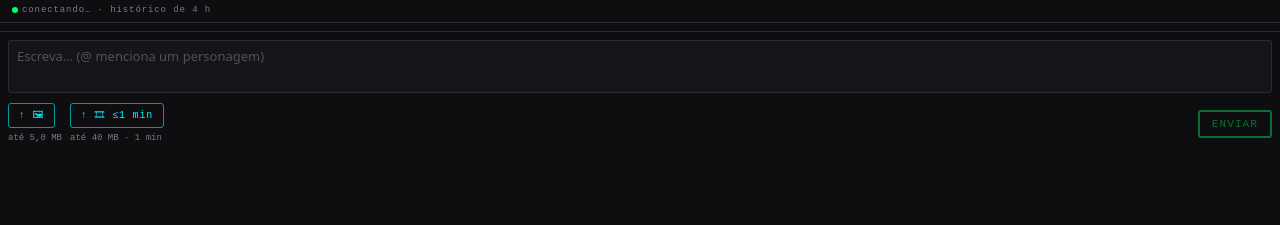
Test case: SalaChat — escrever › "@" oferece personagens e escolher um insere o @id
Type "oi @ma" into the text box named "Escrever mensagem". click: (640, 66)
box: x1=8 y1=40 x2=1272 y2=92
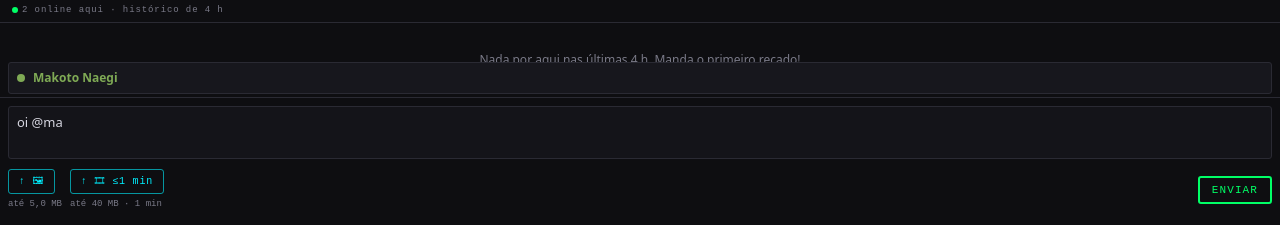
expect the button "Makoto Naegi" is shown: met
Click the button "Makoto Naegi". click: (75, 77)
box: x1=9 y1=62 x2=1271 y2=92
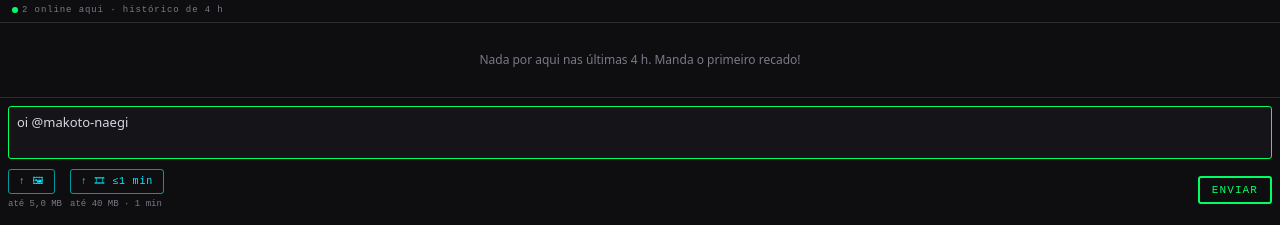
expect the text box named "Escrever mensagem" holds "oi @makoto-naegi ": met, box x1=8 y1=106 x2=1272 y2=158
